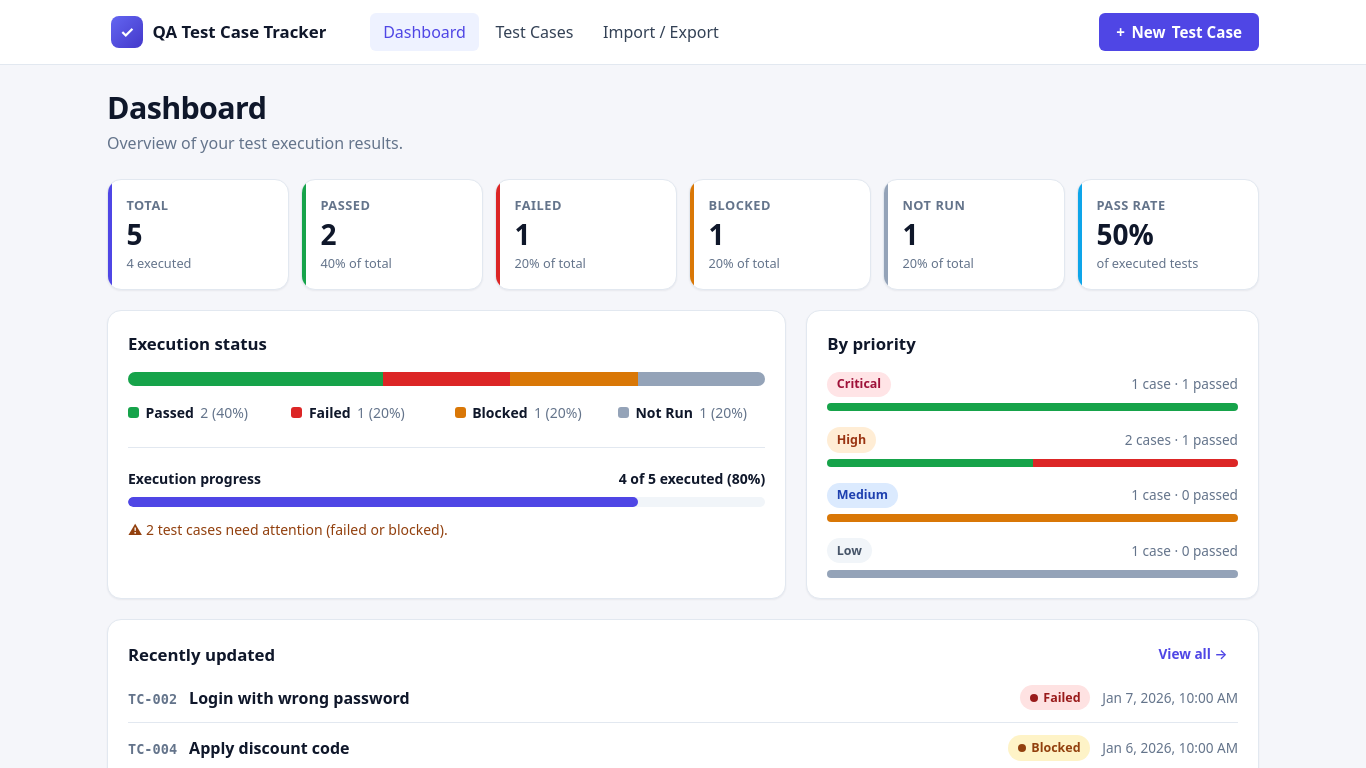
App › deleting from the detail view returns to the list
Click the button "Test Cases": (534, 32) 483,13 -> 586,51
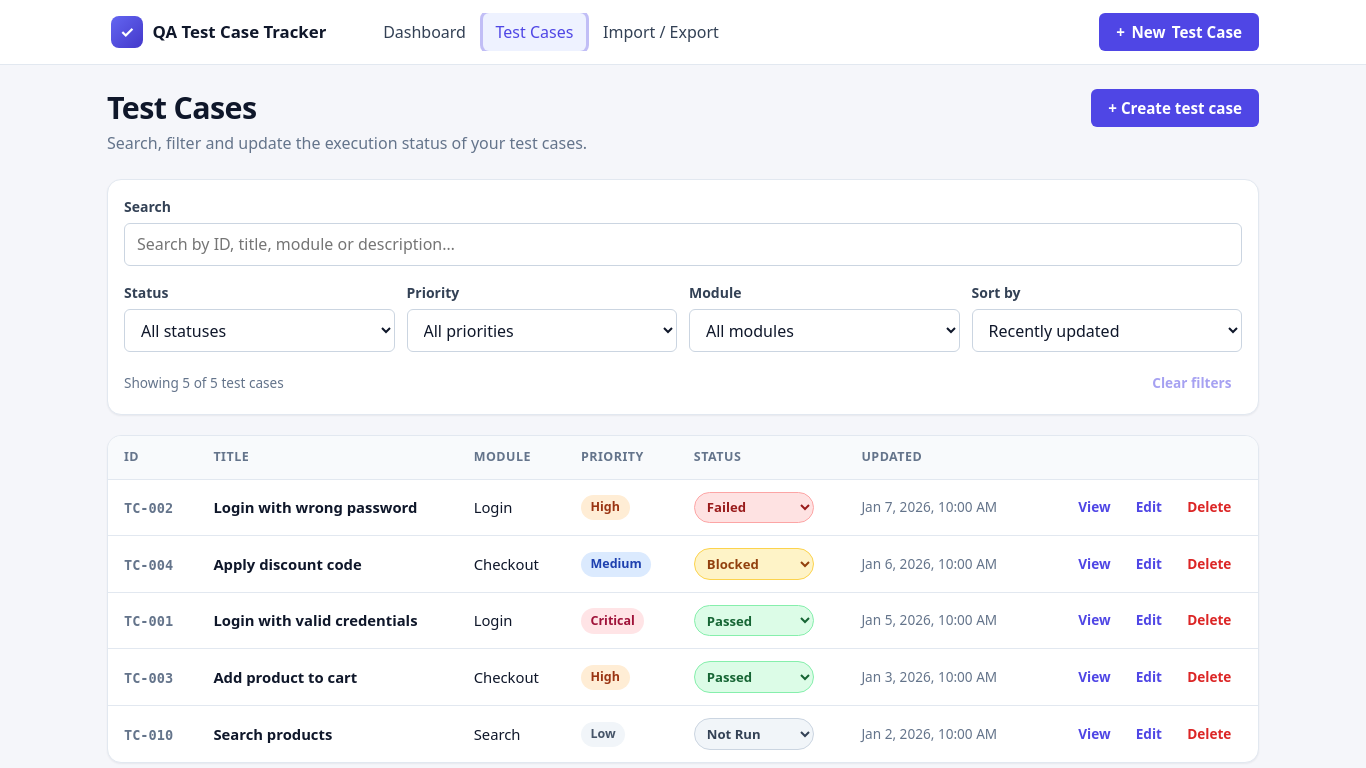
Click the button with aria-label "View TC-003": (1094, 677) 1068,662 -> 1121,692
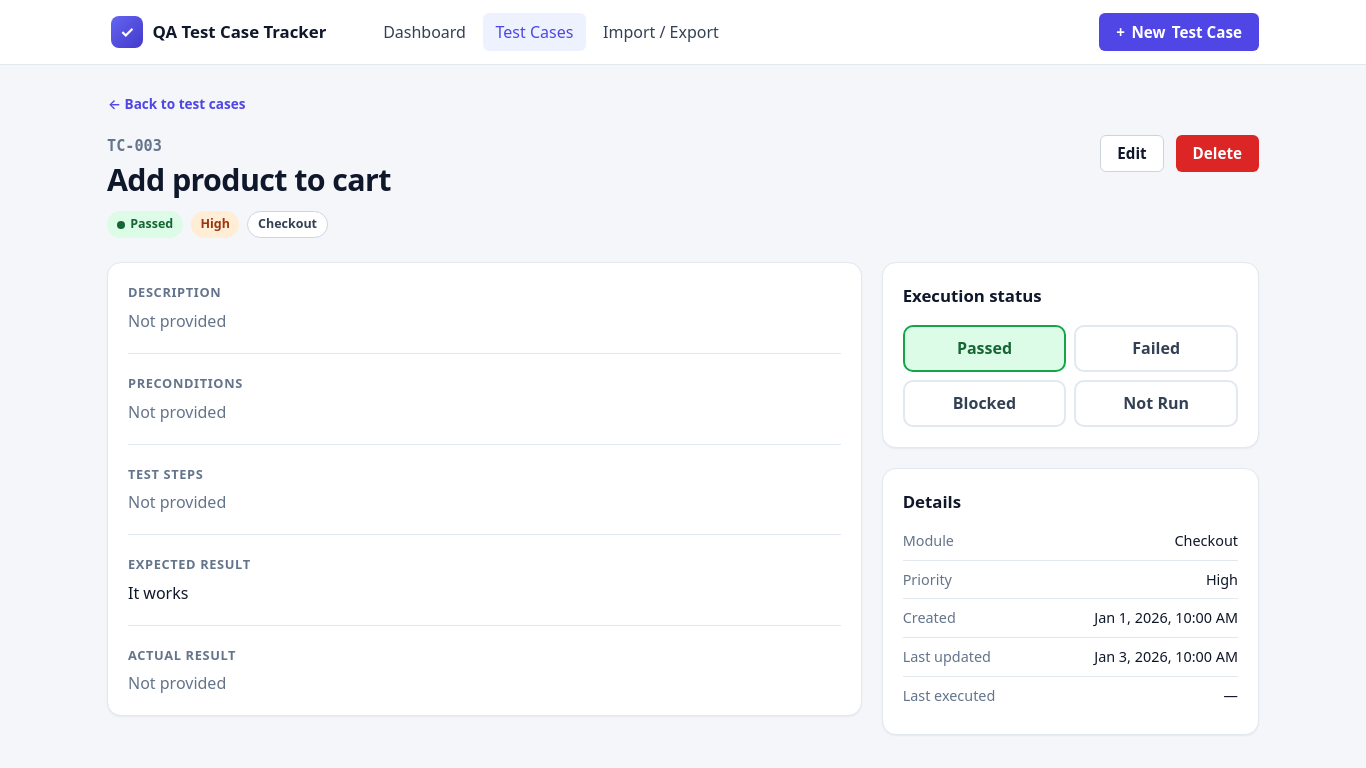
Click the button "Delete": (1217, 153) 1176,134 -> 1259,172
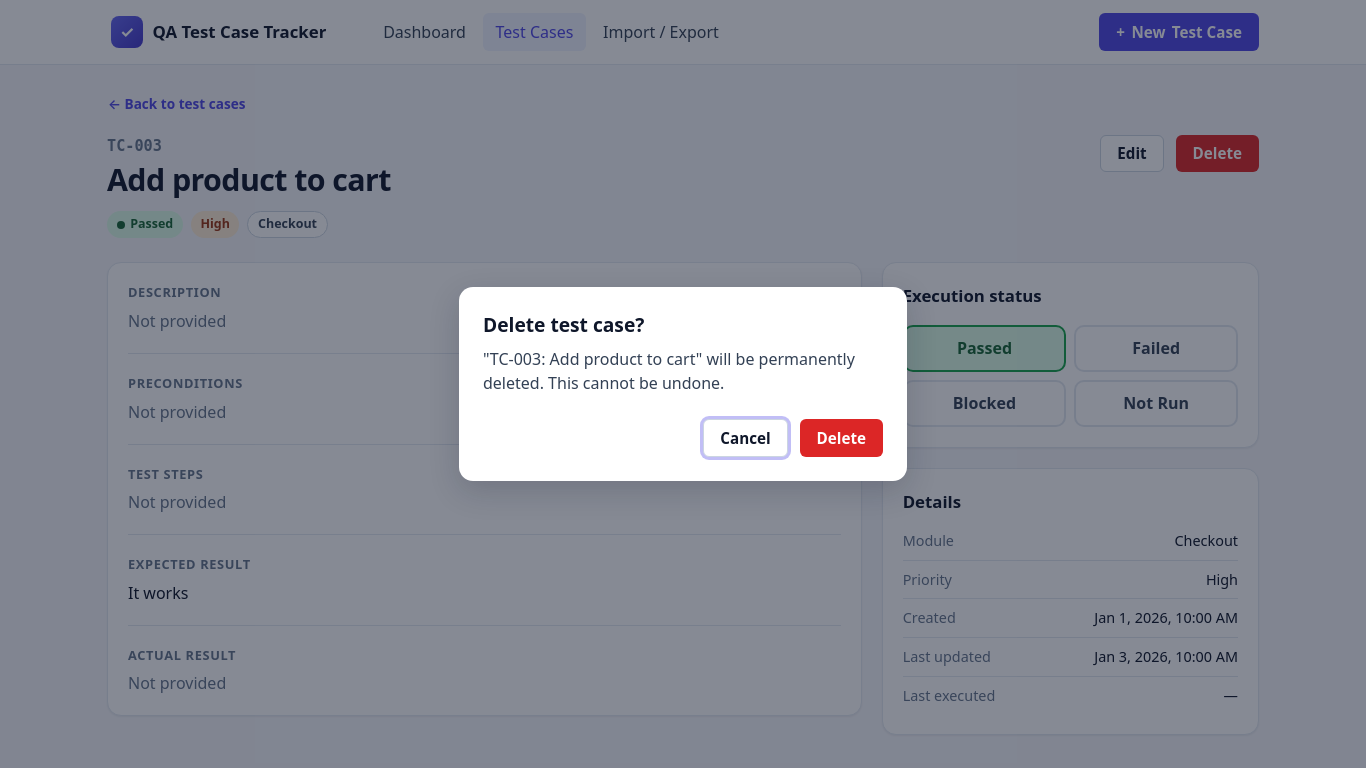
Click the button "Delete": (841, 438) 800,420 -> 883,457
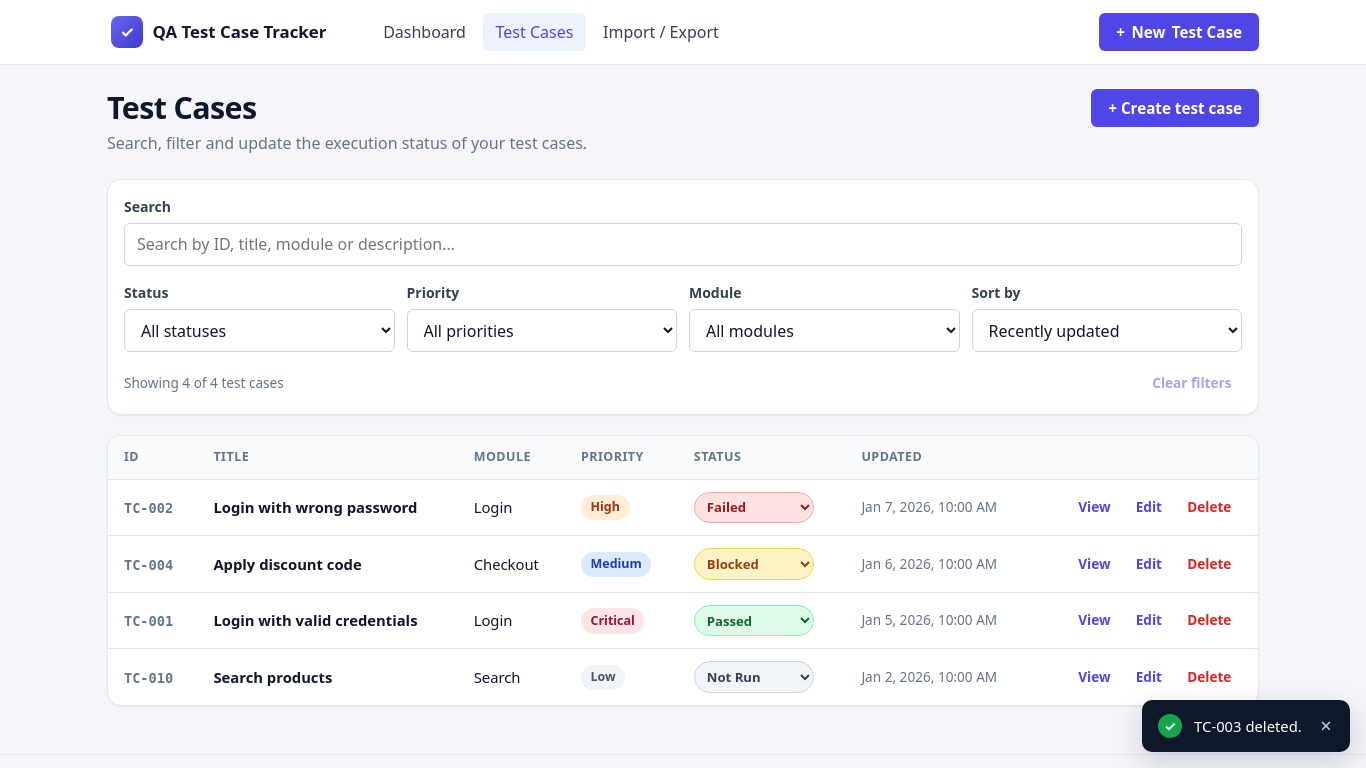
Expected: the heading "Test Cases" is shown, 107,87 -> 256,128
Expected: the number of rows is 5, 108,436 -> 1258,479; 108,480 -> 1258,536; 108,536 -> 1258,592; 108,592 -> 1258,649; 108,649 -> 1258,705
